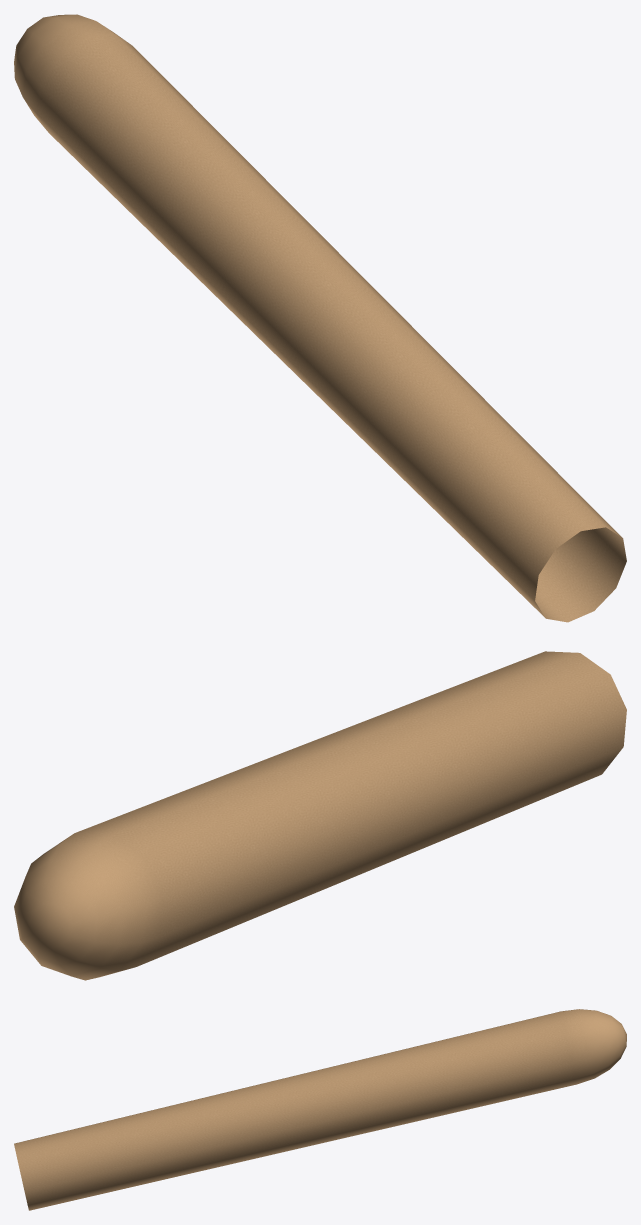
The model's file is effect object.FBX.
The picture shows the model from 3 angles, top to bottom: view 1: azimuth 30°, elevation 25°; view 2: azimuth 150°, elevation 25°; view 3: azimuth 270°, elevation 25°; orthographic projection. The views are drawn at different scales.
Visible parts, largest first — view 1: Capsule001; view 2: Capsule001; view 3: Capsule001.
Boxes of the visible parts, box(x1,y1,x2,y2) form: Capsule001: box(14, 14, 626, 622); Capsule001: box(14, 651, 626, 980); Capsule001: box(14, 1009, 626, 1210).
Bounding box in the file's own units: 11.27 × 20.06 × 62.33.
